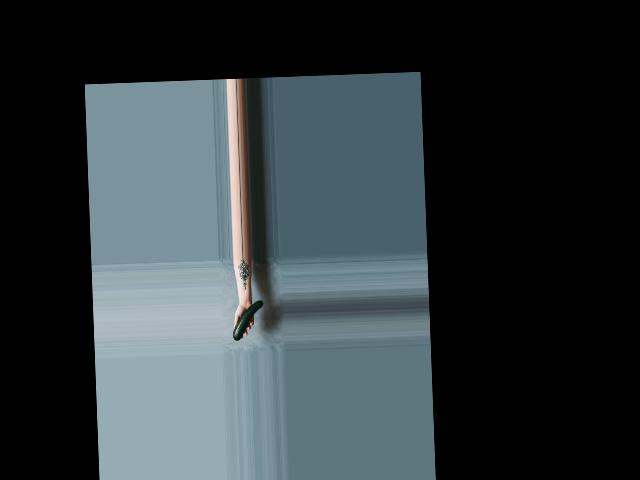cucumber: (232, 300, 265, 341)
